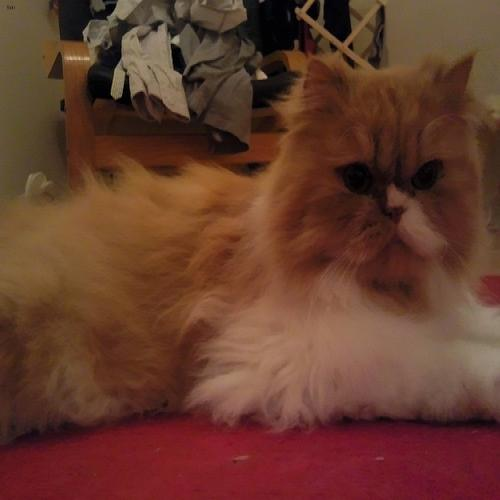persian: (291, 47, 491, 294)
